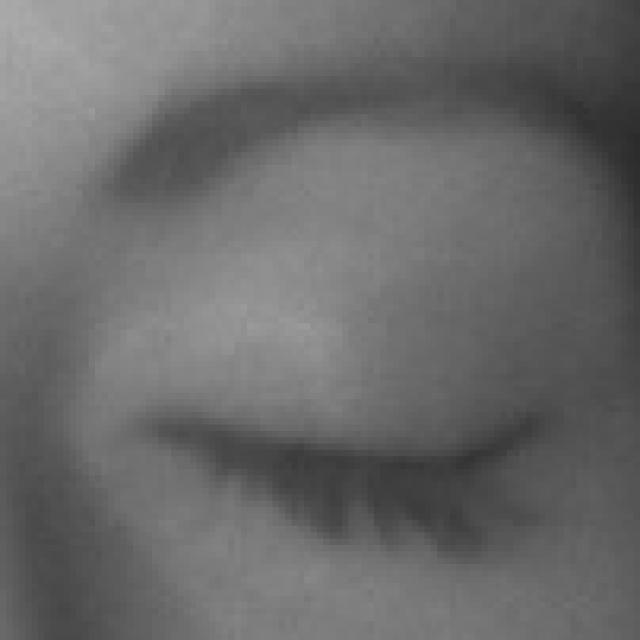Eyeclosed: (126, 236, 554, 640)
